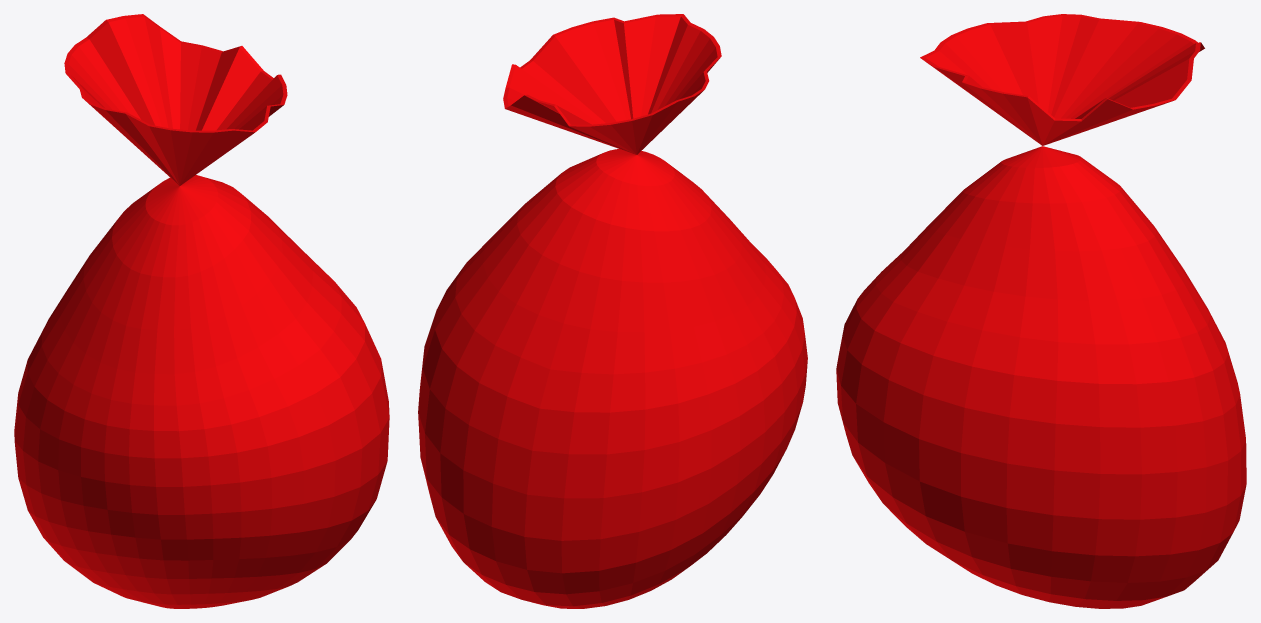
File: lixo 01.fbx
3 renders of one model, left to right at view 1: azimuth 30°, elevation 25°; view 2: azimuth 150°, elevation 25°; view 3: azimuth 270°, elevation 25°, orthographic. The views are drawn at different scales.
Visible parts, largest first — view 1: lixo 02; view 2: lixo 02; view 3: lixo 02.
Boxes of the visible parts, x1=… form: lixo 02: x1=14, y1=14, x2=389, y2=608; lixo 02: x1=418, y1=14, x2=807, y2=608; lixo 02: x1=836, y1=14, x2=1246, y2=608.
Size of the model in its own units: 59.36 by 95.02 by 65.82.
